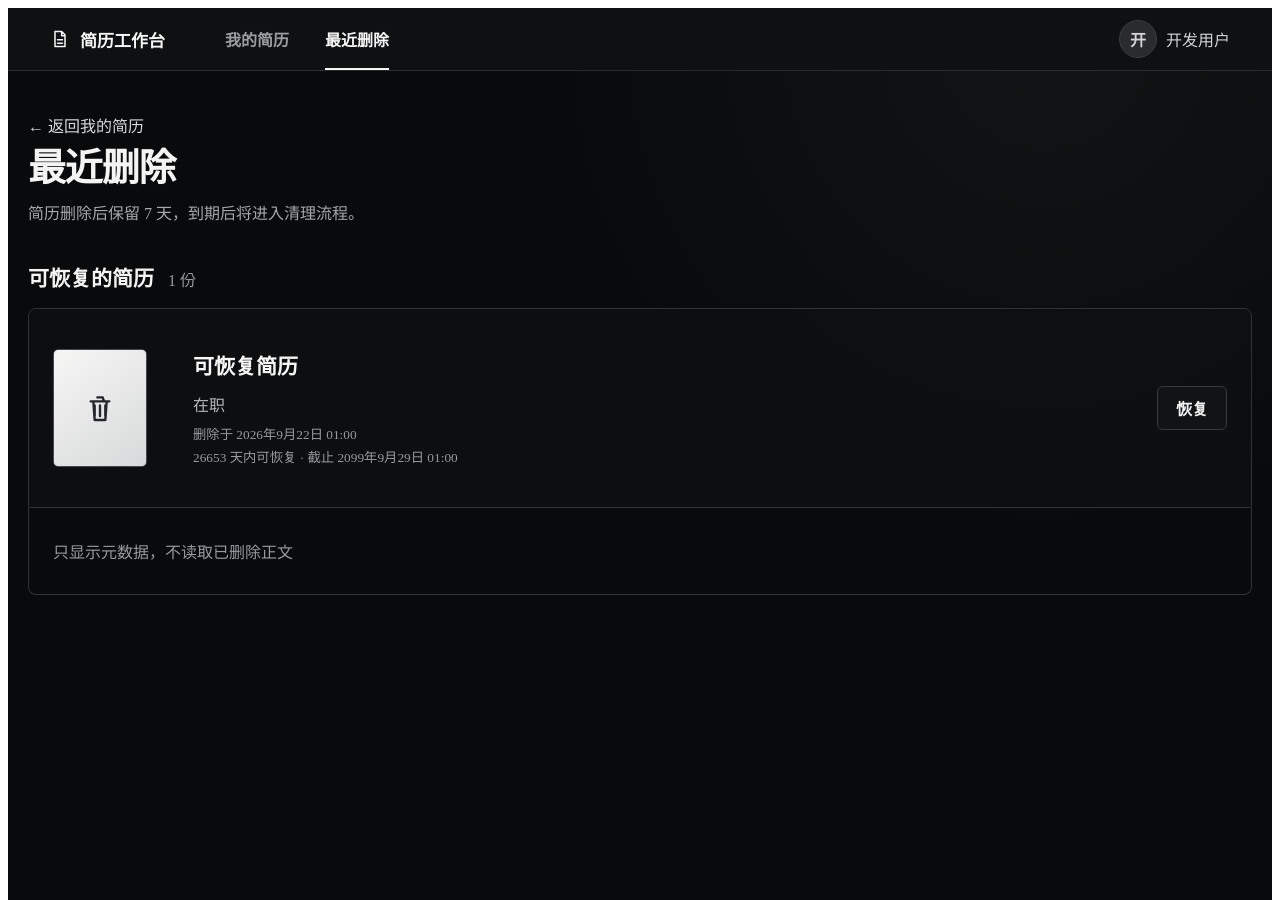
Test case: recently deleted resumes › keeps the success feedback visible after restoring the final item
The width and height of the screenshot is (1280, 900).
Click the button "恢复".
click(1192, 408)  # box [1157,386,1227,430]
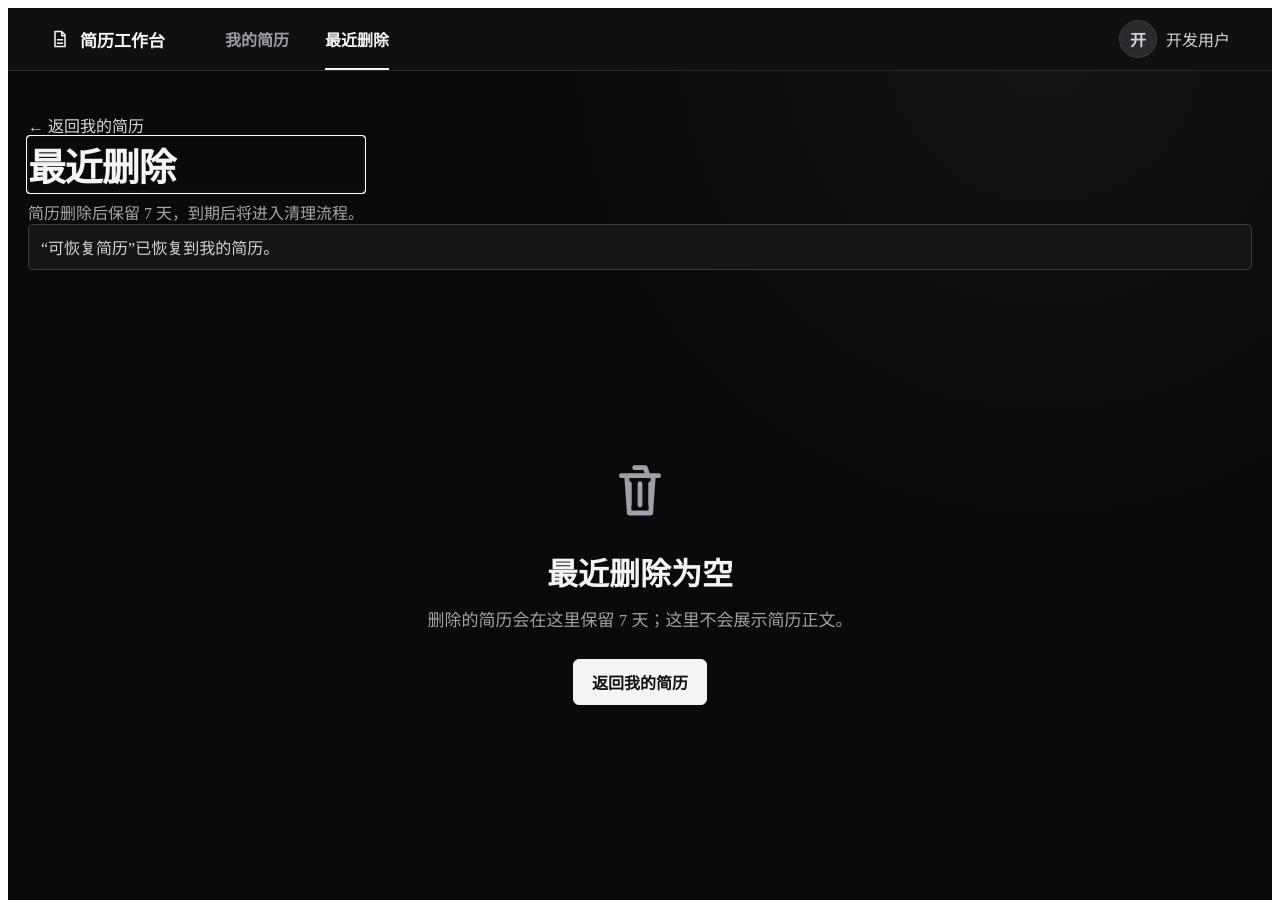
Check: the heading "最近删除为空" is shown, box [547,549,733,594]
Check: the message shows "已恢复到我的简历", box [41,240,279,257]
